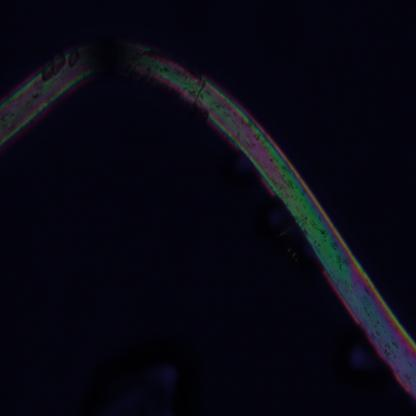Microfibre: (0, 31, 416, 399)
